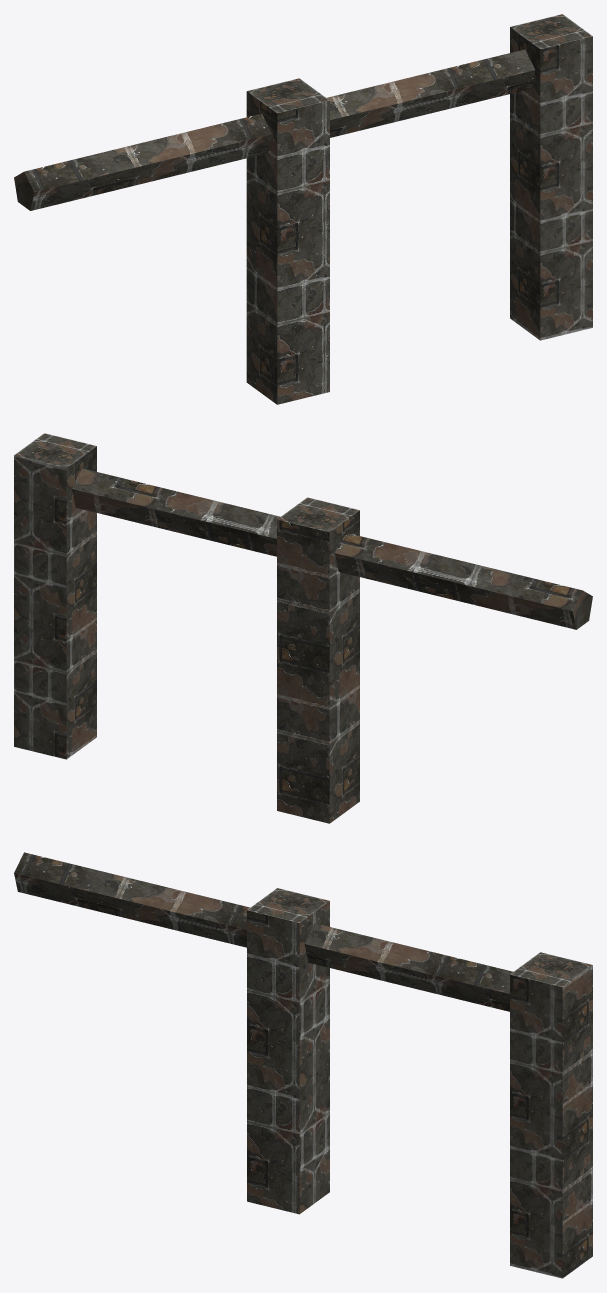
File: Fence_metal3.glb
3 renders of one model, top to bottom at view 1: azimuth 30°, elevation 25°; view 2: azimuth 150°, elevation 25°; view 3: azimuth 330°, elevation 25°, orthographic.
Parts seen in each view (by area): view 1: Cube; view 2: Cube; view 3: Cube.
Part boxes in pixels (left/top/right/bottom): Cube: left=14, top=14, right=592, bottom=404; Cube: left=14, top=433, right=592, bottom=823; Cube: left=14, top=852, right=592, bottom=1278.
Size of what is drawn, in the model's own units: 2.1 by 1.06 by 0.2.
1 material, 1 textured.
